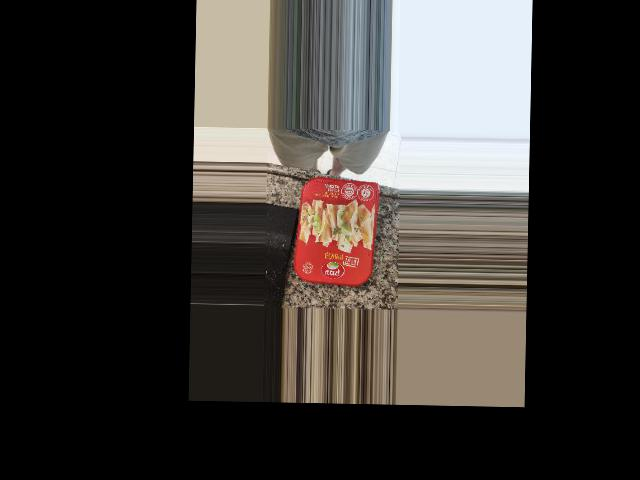cheese: (293, 174, 381, 287)
